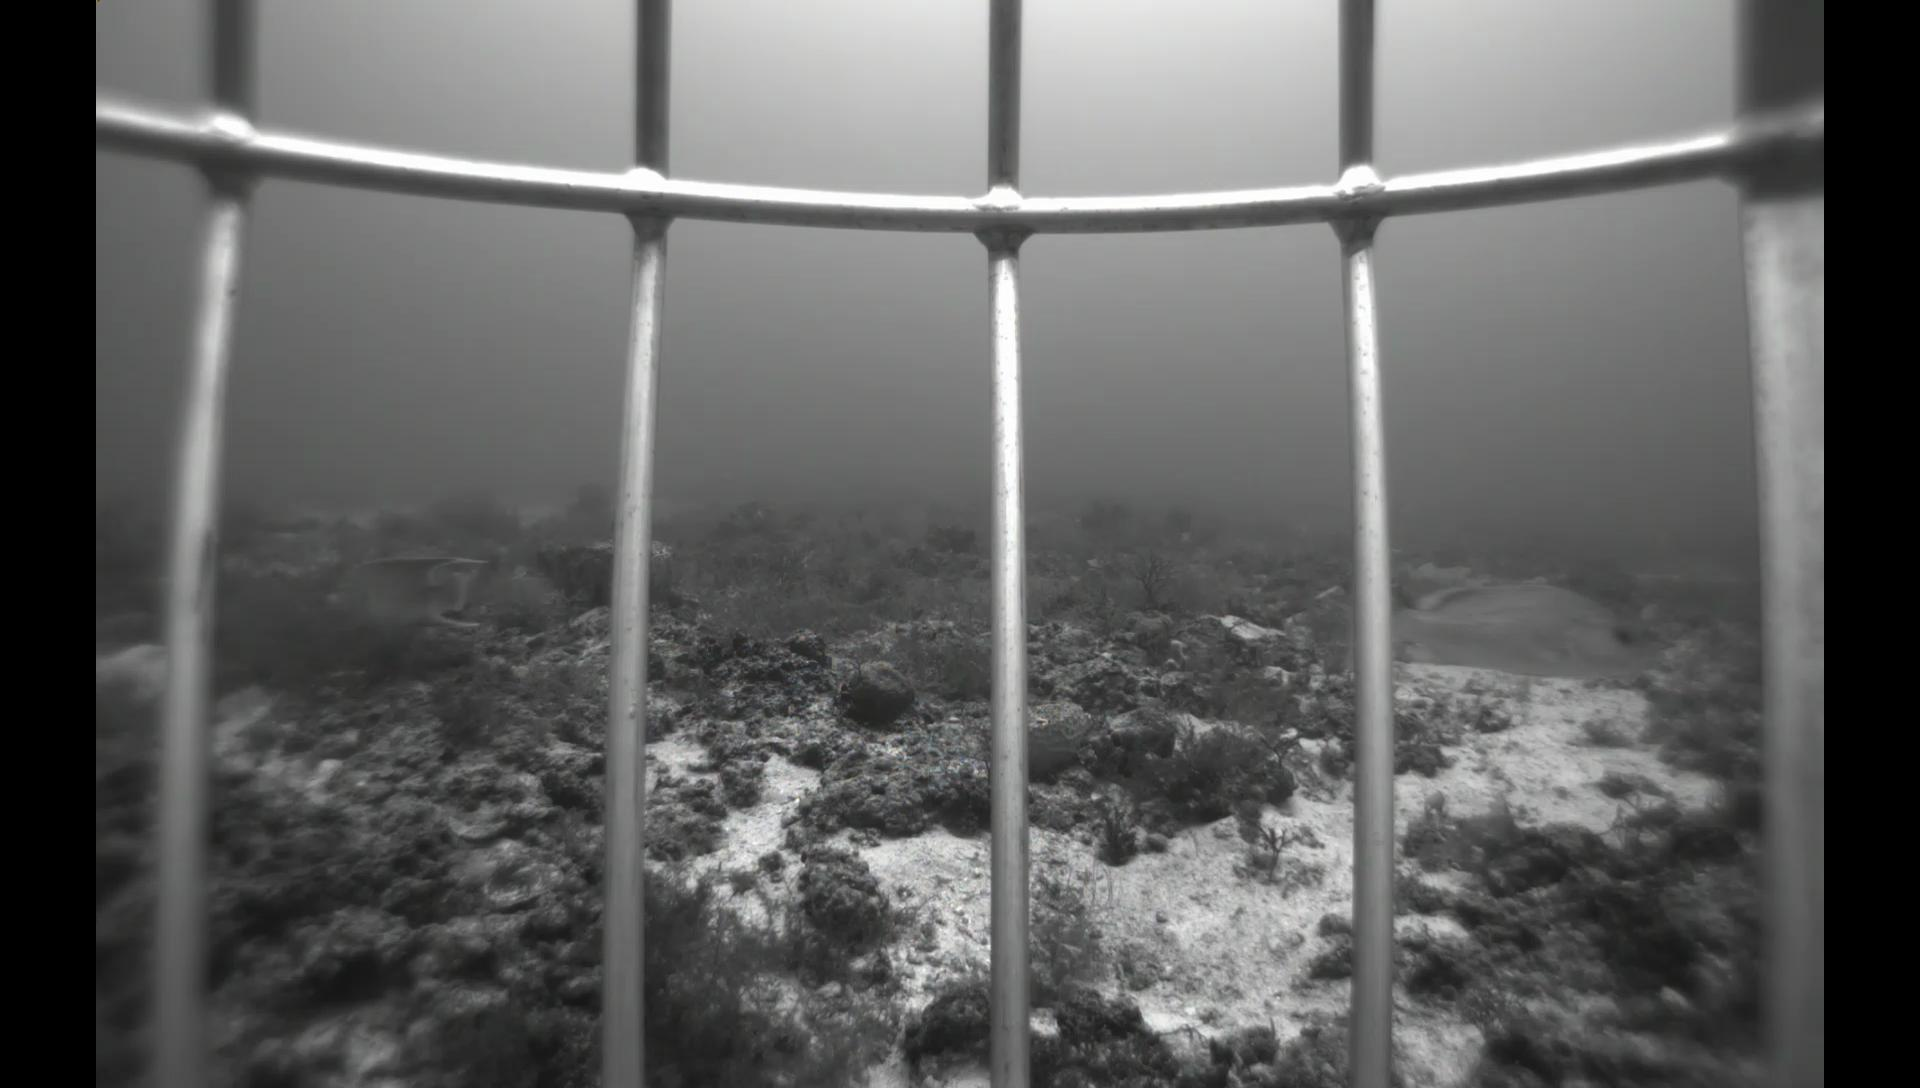HOLACANTHUSBERMUDENSIS-170290102: (313, 551, 495, 644)
LUTJANUSGRISEUS-170151109: (1335, 562, 1676, 702)
MYCTEROPERCAPHENAX-170022105: (848, 510, 891, 559)
